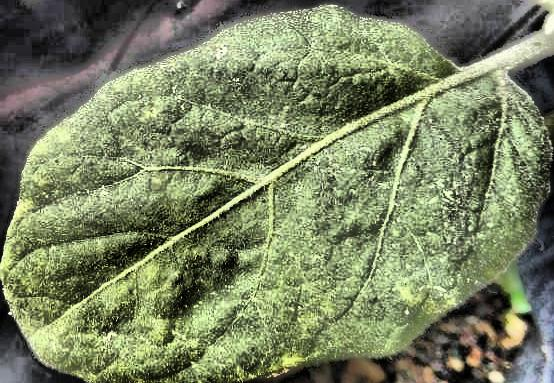HEALTHY: (1, 1, 554, 383)
